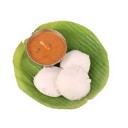idly: (58, 68, 91, 101), (34, 66, 63, 96), (61, 53, 90, 71)
